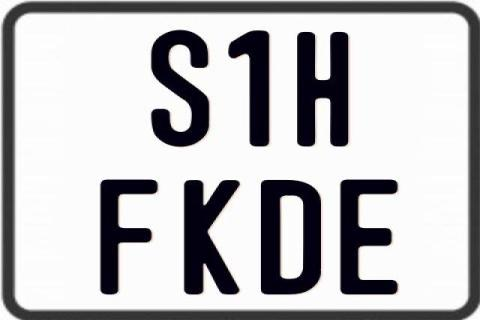0: (226, 29, 273, 149)
D: (261, 179, 325, 297)
E: (340, 177, 398, 295)
F: (101, 178, 164, 294)
H: (296, 32, 347, 150)
K: (183, 180, 240, 298)
S: (151, 29, 215, 148)
